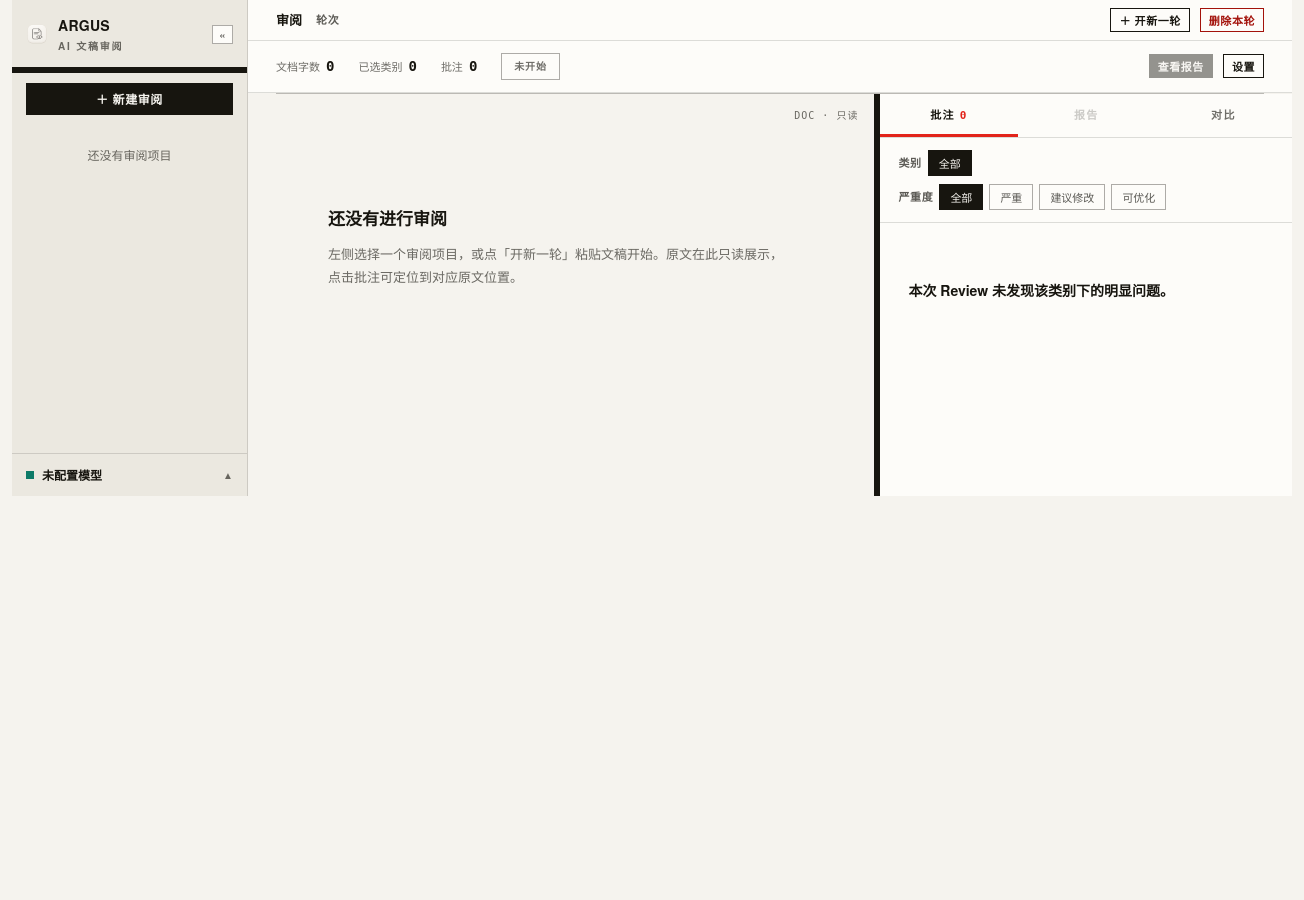
侧栏 chrome 外壳 › 无全局顶栏；账户行菜单进入设置页，返回审阅回到工作台
Expected: the element showing "ARGUS AI 文稿审阅 « ＋ 新建审阅 还没有审阅项目 未配置模型 ▲" is shown, [12,0,248,496]
Expected: the element that starts with "＋ 开新一轮" is shown, [248,0,1292,496]
账户行菜单 → 设置
Click the button "未配置模型 ▲" at (130, 475), box [12,454,247,496]
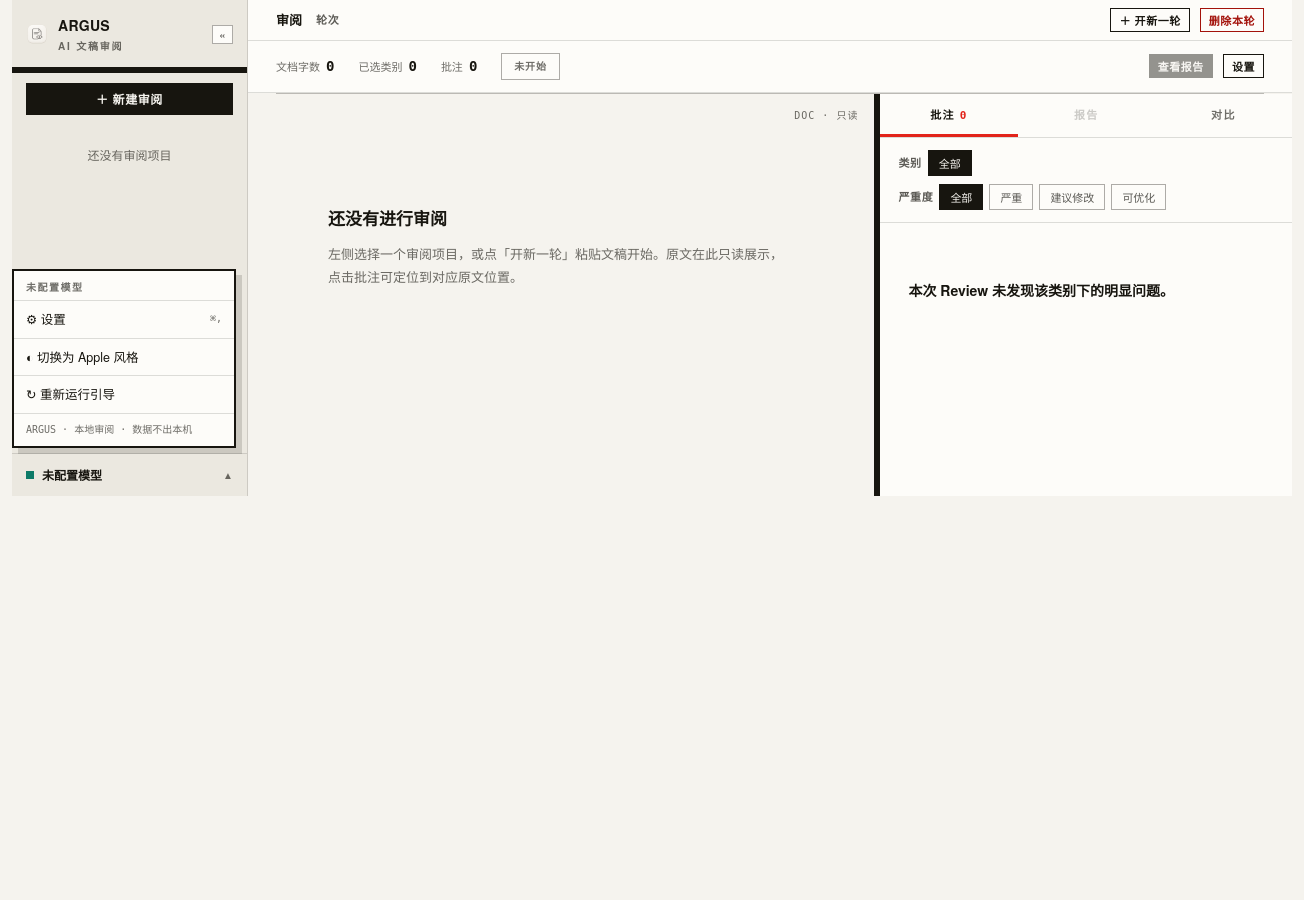
Now the menu item "⚙ 设置 ⌘," is shown
Click the menu item "⚙ 设置 ⌘," at (124, 319), box [14,300,234,338]
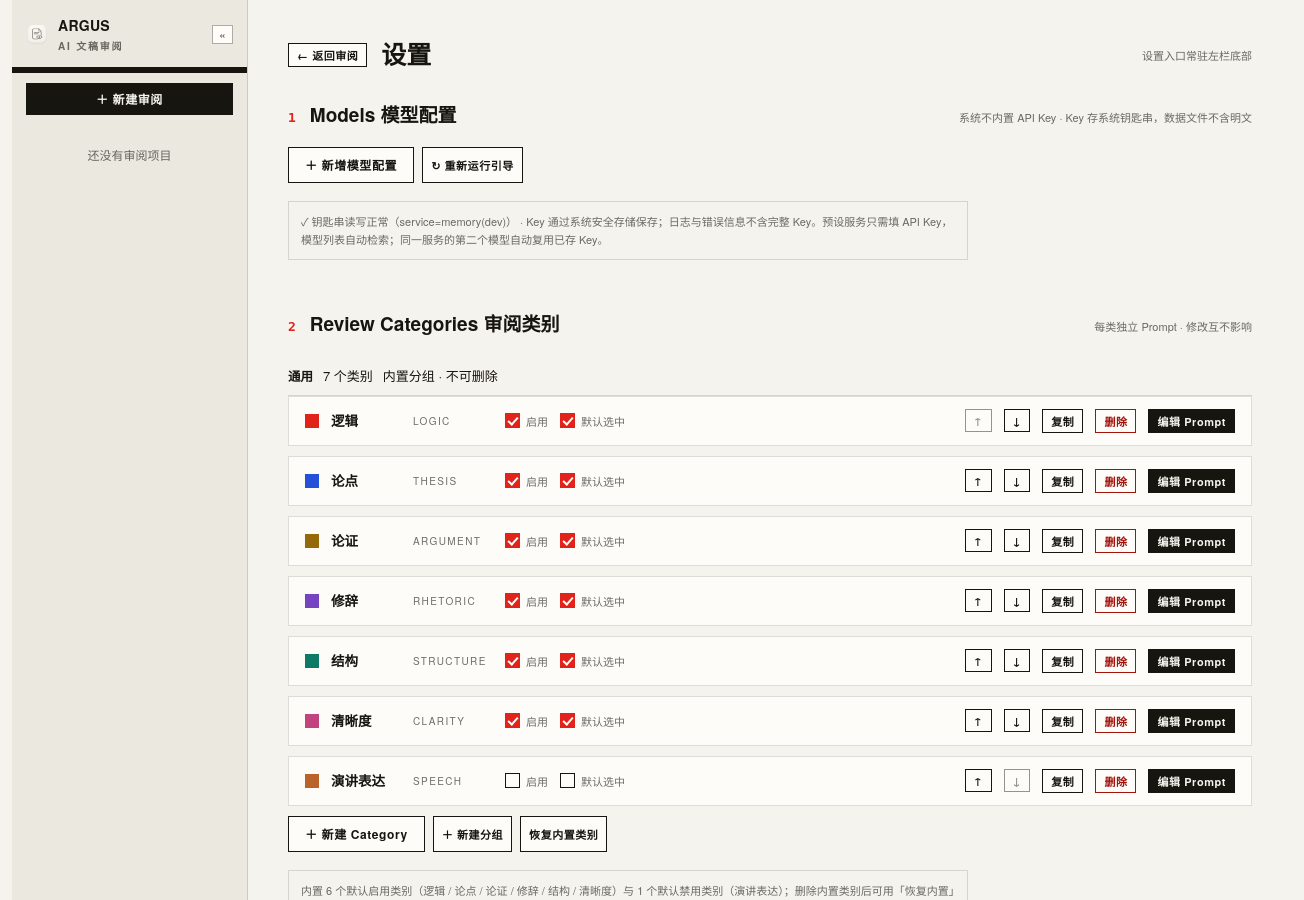
页头「返回审阅」
Click the button "← 返回审阅" at (328, 55), box [288,43,367,67]
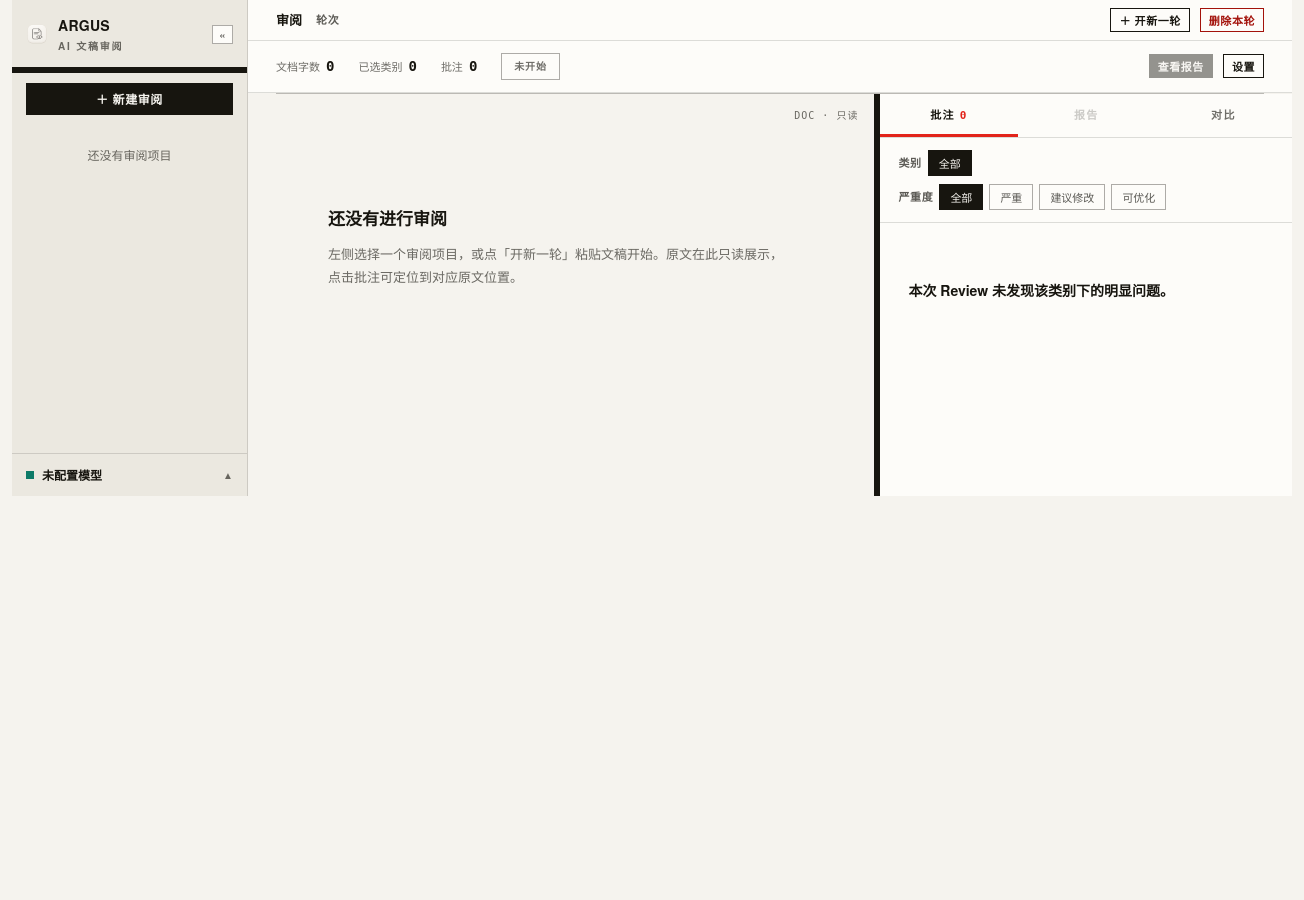
Now the element that starts with "＋ 开新一轮" is shown, box [248,0,1292,496]
